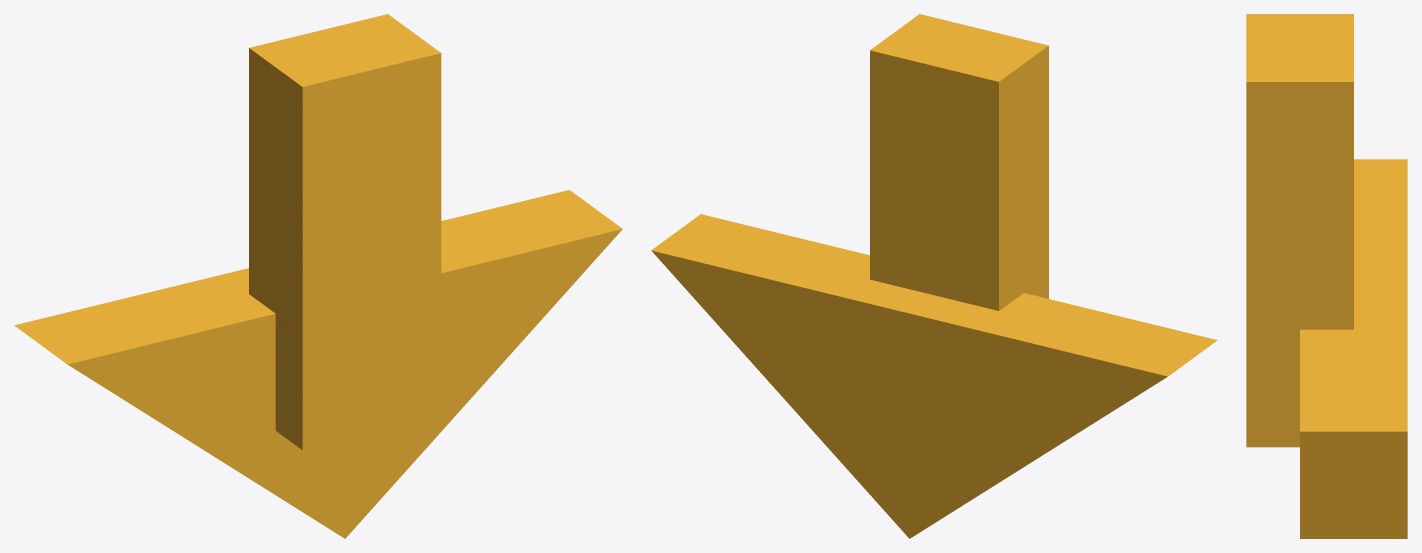
The model's file is van-target-marker.glb.
The picture shows the model from 3 angles, left to right: view 1: azimuth 30°, elevation 25°; view 2: azimuth 150°, elevation 25°; view 3: azimuth 270°, elevation 25°; orthographic projection. The views are drawn at different scales.
Visible parts, largest first — view 1: marker-stem, arrow; view 2: arrow, marker-stem; view 3: marker-stem, arrow.
Boxes of the visible parts, left/top/right/bottom form: marker-stem: left=249, top=14, right=441, bottom=450; arrow: left=14, top=190, right=622, bottom=538; arrow: left=651, top=214, right=1217, bottom=538; marker-stem: left=870, top=14, right=1048, bottom=310; marker-stem: left=1246, top=14, right=1353, bottom=447; arrow: left=1300, top=159, right=1407, bottom=538.
Bounding box in the file's own units: 0.72 × 0.605 × 0.18.
